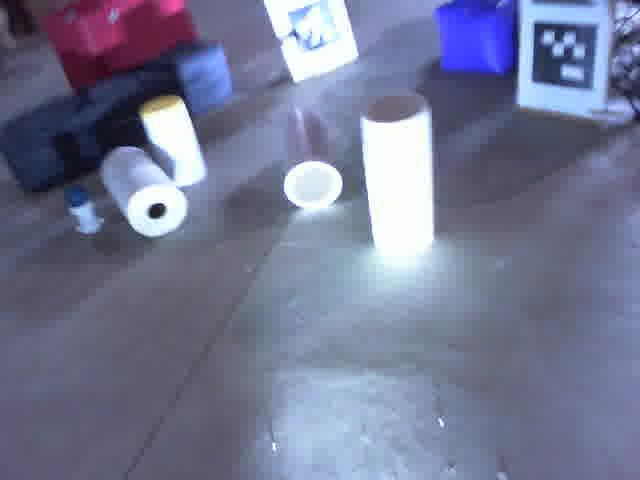coral: (359, 92, 435, 259), (279, 102, 345, 207), (142, 96, 206, 194)
